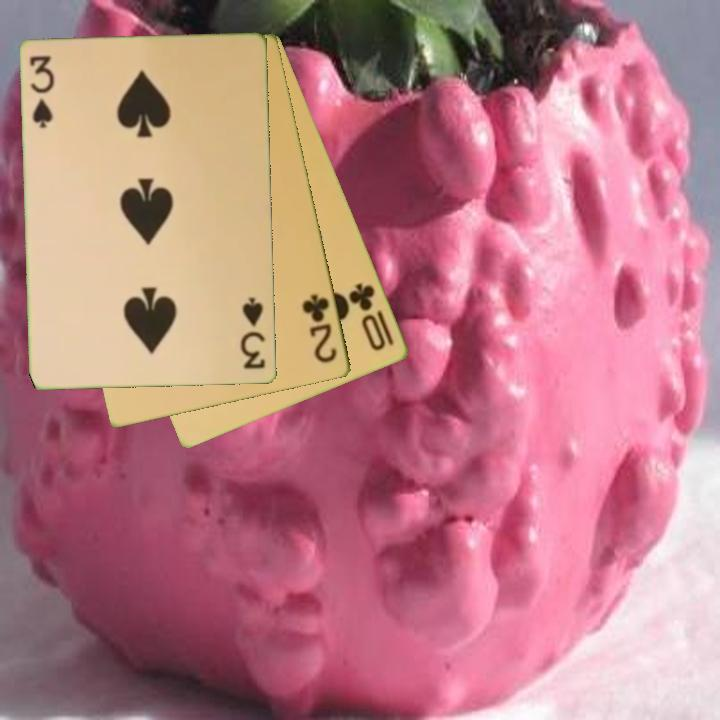10c: (345, 279, 398, 354)
2c: (299, 291, 341, 366)
3s: (237, 295, 269, 373), (27, 52, 58, 132)
